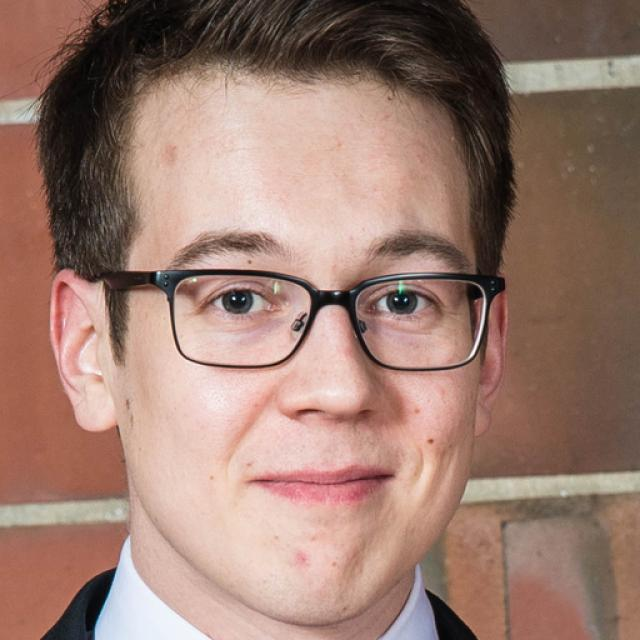content: (119, 71, 482, 624)
